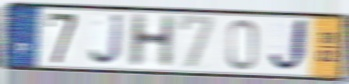0: (226, 17, 259, 71)
7: (177, 14, 219, 72), (46, 11, 79, 65)
H: (127, 12, 178, 69)
J: (267, 17, 310, 76), (87, 12, 125, 68)
